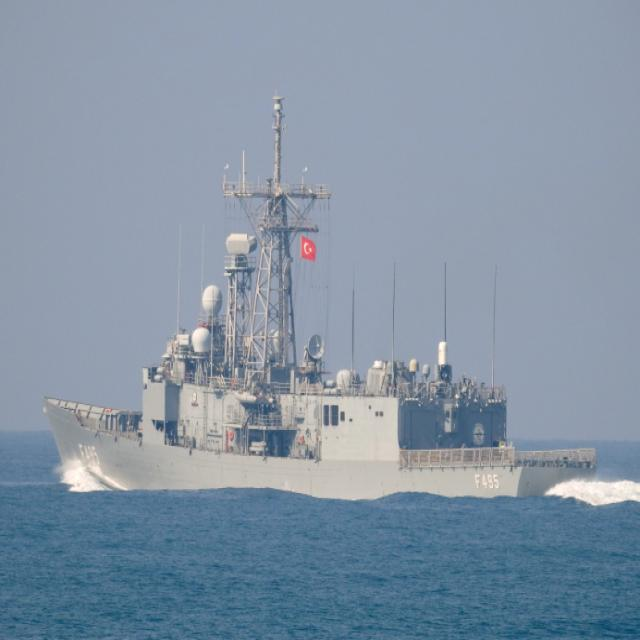Fragata: (32, 68, 610, 510)
